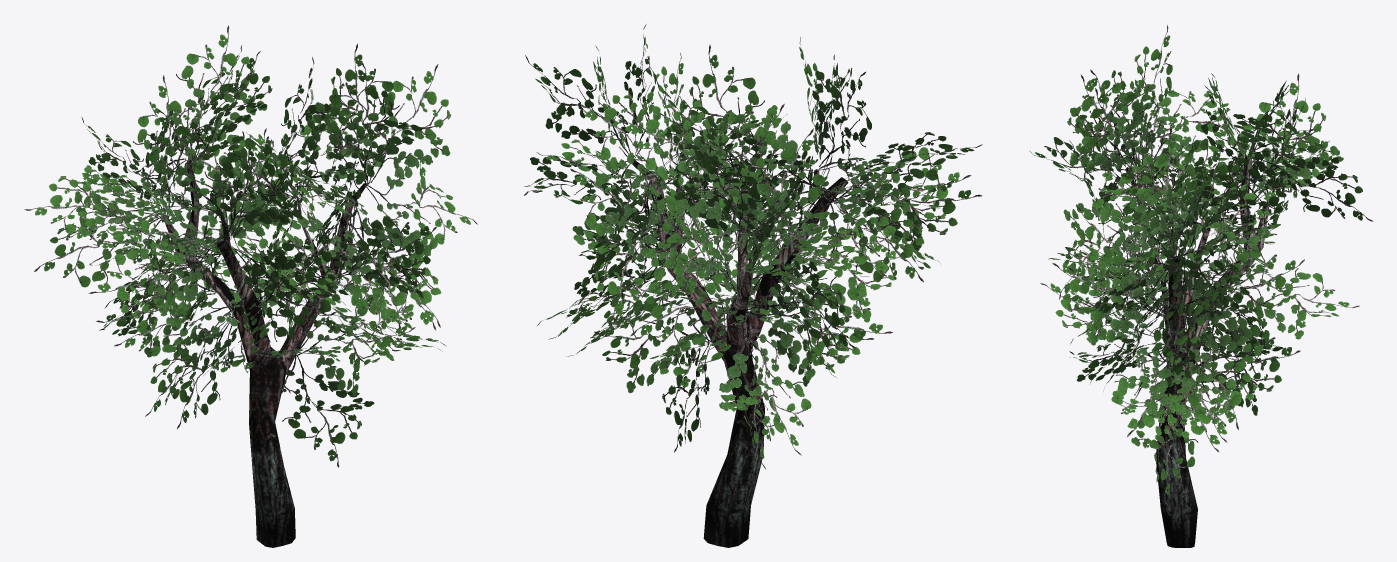
File: TreeHighpoly.fbx
3 renders of one model, left to right at view 1: azimuth 30°, elevation 25°; view 2: azimuth 150°, elevation 25°; view 3: azimuth 270°, elevation 25°, orthographic. The views are drawn at different scales.
Visible parts, largest first — view 1: Leaves.001; view 2: Leaves.001; view 3: Leaves.001.
Boxes of the visible parts, x1,y1,x2,y2 form: Leaves.001: (24,25,477,547); Leaves.001: (524,24,982,547); Leaves.001: (1030,25,1373,547).
Bounding box in the file's own units: 1402 × 1599 × 1097.
